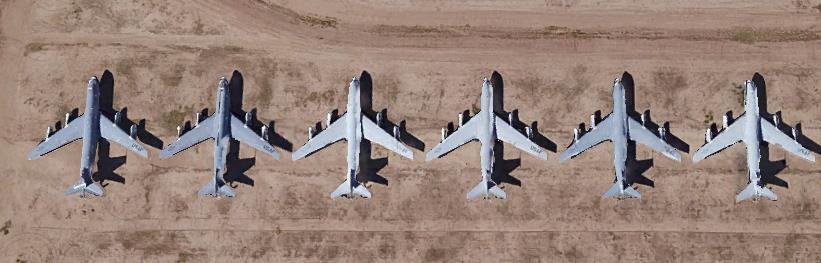KC-135: (424, 75, 548, 201), (699, 75, 817, 205), (294, 72, 414, 199), (564, 73, 684, 200), (33, 70, 148, 197), (168, 71, 277, 201)
